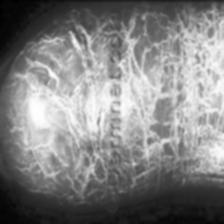Non-Cancerous Skin Condition: (23, 58, 104, 184)
